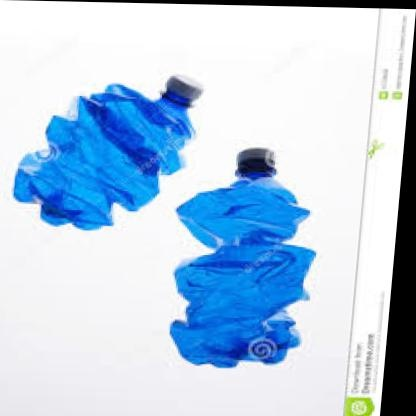trash: (170, 148, 314, 366), (14, 76, 201, 229)
